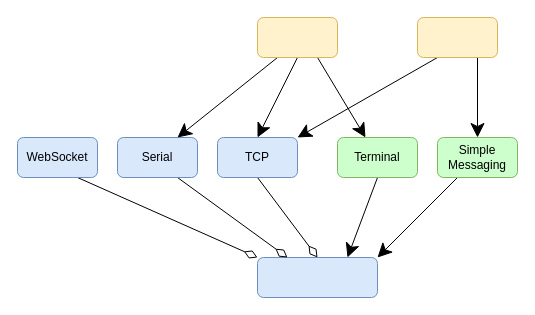
Some shapes in this 535 by 315 pixel diagram are drawn without their labels. The shapes that lost their labels are listed below. From the top down, each one's centre as x and y in pixels, then its label:
the point at 297,37: Terminal App
the point at 457,37: Chat Message Demo
the point at 317,277: Stream
